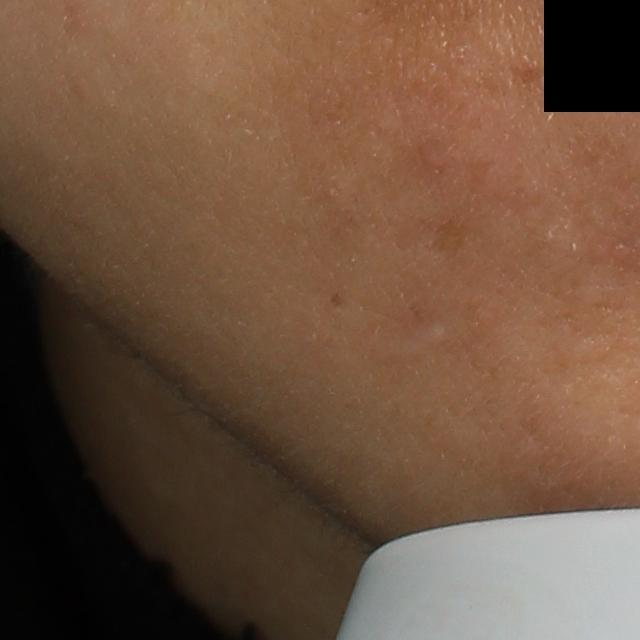hypertrophic_scar: (397, 322, 456, 349)
